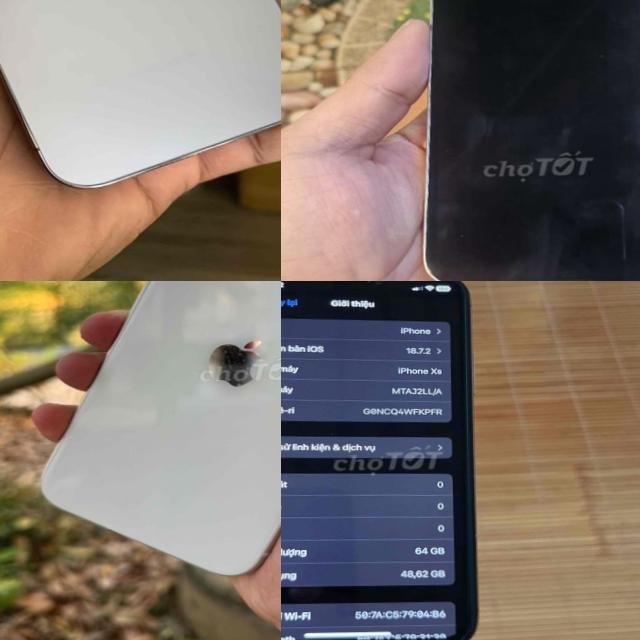gen_11: (28, 281, 281, 578)
gen_12_13: (419, 0, 640, 281), (0, 0, 281, 190)
gen_x_xs: (281, 281, 487, 640)
